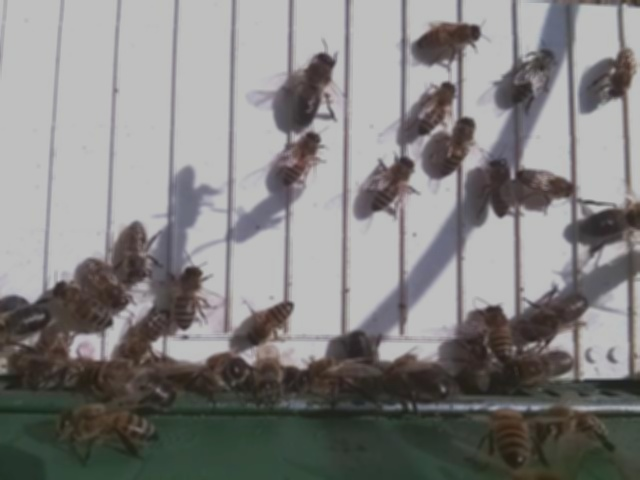Drone: (288, 46, 340, 130), (519, 287, 593, 341), (574, 198, 640, 245), (503, 347, 578, 387), (0, 299, 54, 341)
Worker: (366, 151, 419, 216), (53, 280, 117, 333), (278, 127, 326, 191), (511, 43, 558, 108), (123, 304, 174, 362), (81, 255, 130, 312), (413, 77, 459, 136), (171, 260, 208, 332), (439, 112, 479, 177), (248, 295, 298, 346), (413, 19, 483, 55), (482, 299, 518, 364), (517, 165, 579, 200), (122, 216, 153, 285), (604, 44, 640, 102), (485, 154, 514, 222)
